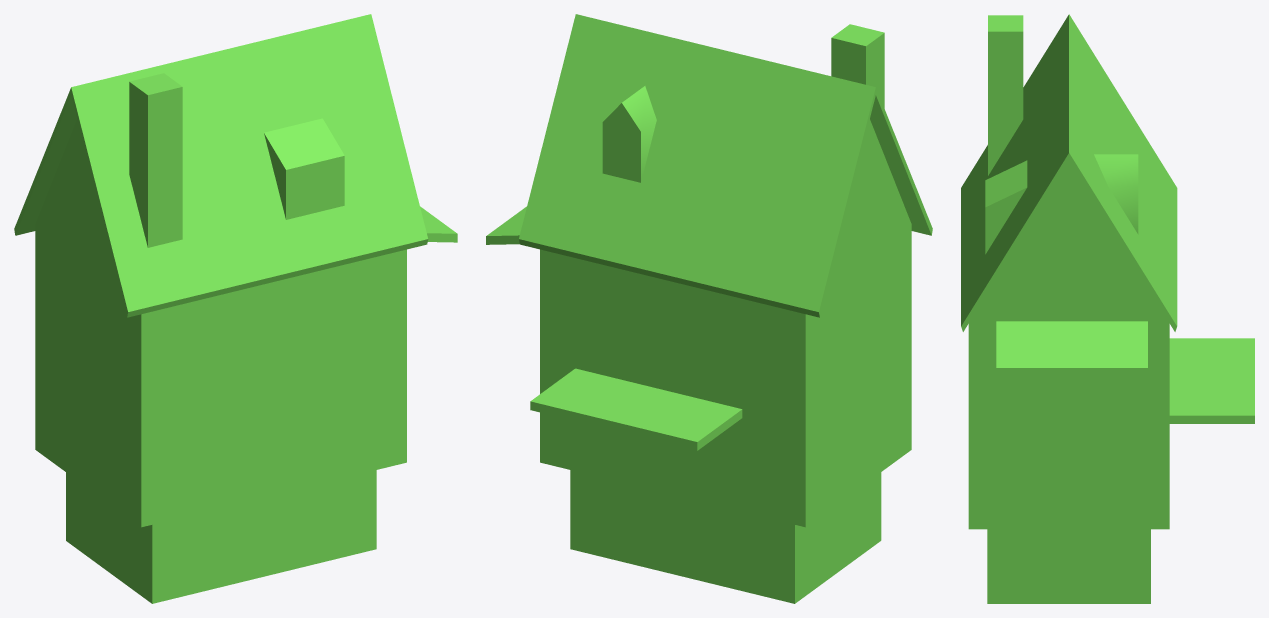
The model's file is Building2_Collision.FBX.
3 views of the same model, side by side, from view 1: azimuth 30°, elevation 25°; view 2: azimuth 150°, elevation 25°; view 3: azimuth 270°, elevation 25° (orthographic). The views are drawn at different scales.
Parts seen in each view (by area): view 1: Building2_Collision; view 2: Building2_Collision; view 3: Building2_Collision.
Part boxes in pixels (<box>): Building2_Collision: <box>14,14,457,603</box>; Building2_Collision: <box>486,14,932,603</box>; Building2_Collision: <box>961,14,1254,603</box>.
Bounding box in the file's own units: 17.95 × 25.09 × 13.83.
